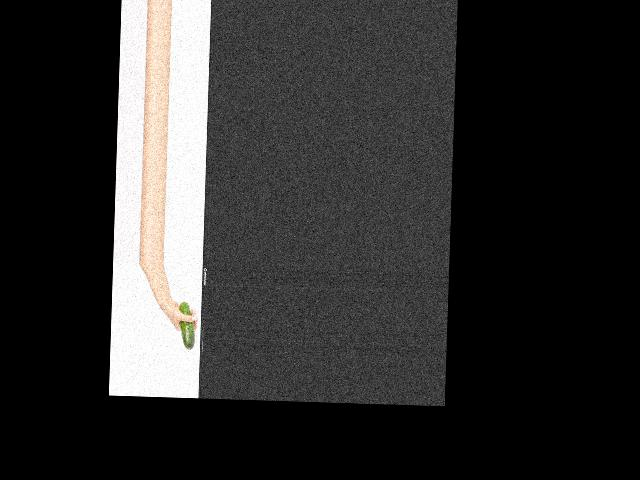cucumber: (178, 302, 196, 350)
